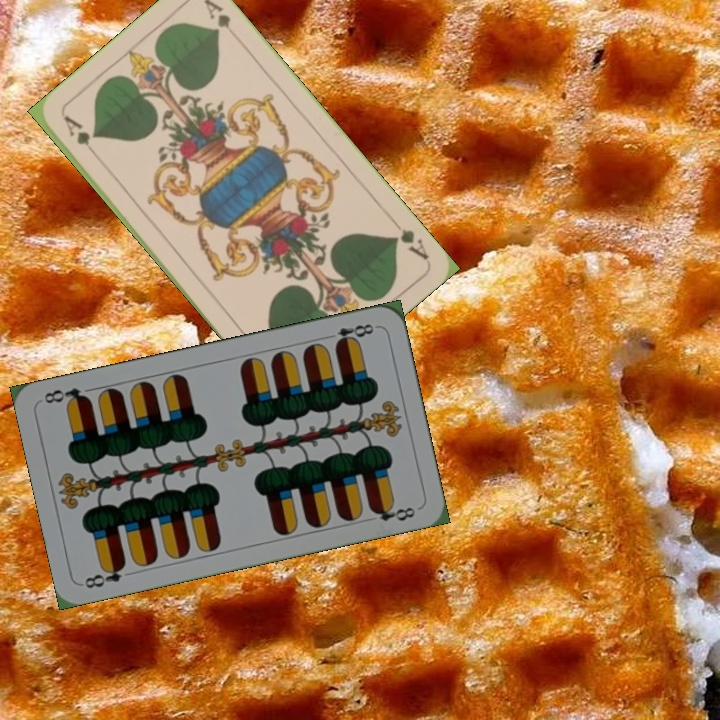E8: (321, 320, 377, 349), (80, 559, 129, 591)
GA: (388, 214, 432, 263), (59, 111, 102, 161)
